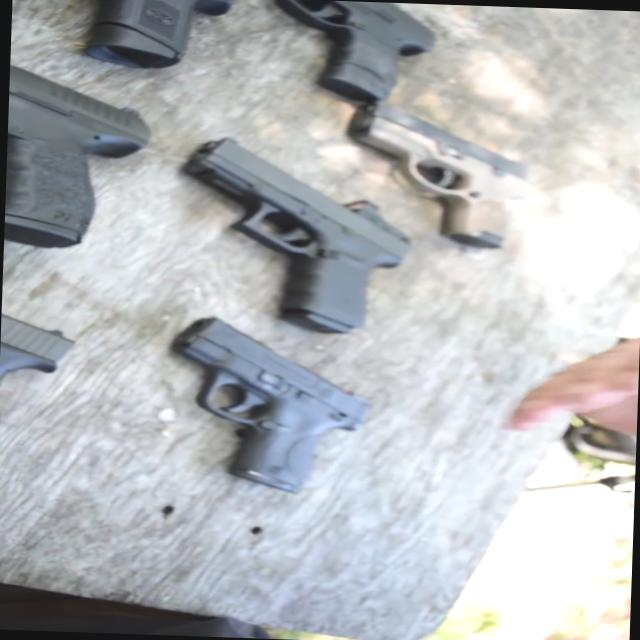handgun: (177, 126, 430, 377), (140, 298, 390, 513), (337, 95, 535, 262), (283, 0, 456, 121)
